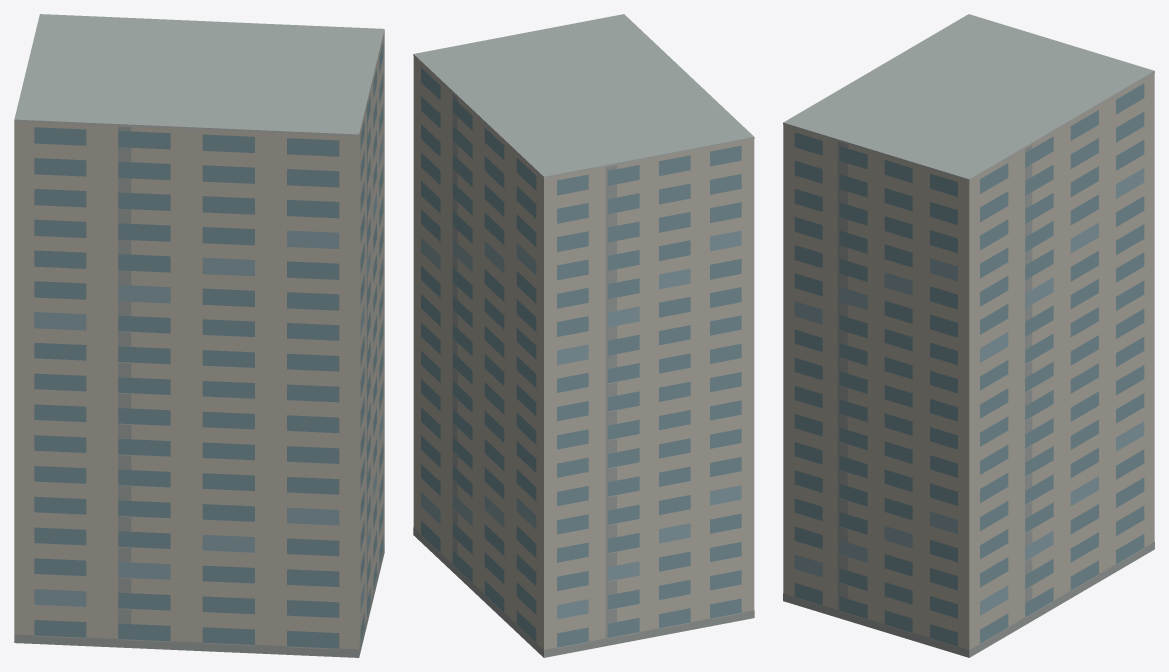
Rendered from residential-249e547e-62ff-4fc8-b44d-7abe729588b5.glb.
3 views of the same model, side by side, from view 1: azimuth 30°, elevation 25°; view 2: azimuth 150°, elevation 25°; view 3: azimuth 270°, elevation 25° (orthographic). The views are drawn at different scales.
Visible parts, largest first — view 1: residential-249e547e-62ff-4fc8-b44d-7abe729588b5.tmp; view 2: residential-249e547e-62ff-4fc8-b44d-7abe729588b5.tmp; view 3: residential-249e547e-62ff-4fc8-b44d-7abe729588b5.tmp.
Boxes of the visible parts, left/top/right/bottom form: residential-249e547e-62ff-4fc8-b44d-7abe729588b5.tmp: left=14, top=14, right=384, bottom=657; residential-249e547e-62ff-4fc8-b44d-7abe729588b5.tmp: left=413, top=14, right=754, bottom=657; residential-249e547e-62ff-4fc8-b44d-7abe729588b5.tmp: left=783, top=14, right=1154, bottom=657.
Bounding box in the file's own units: 38.43 × 51.85 × 36.5.
